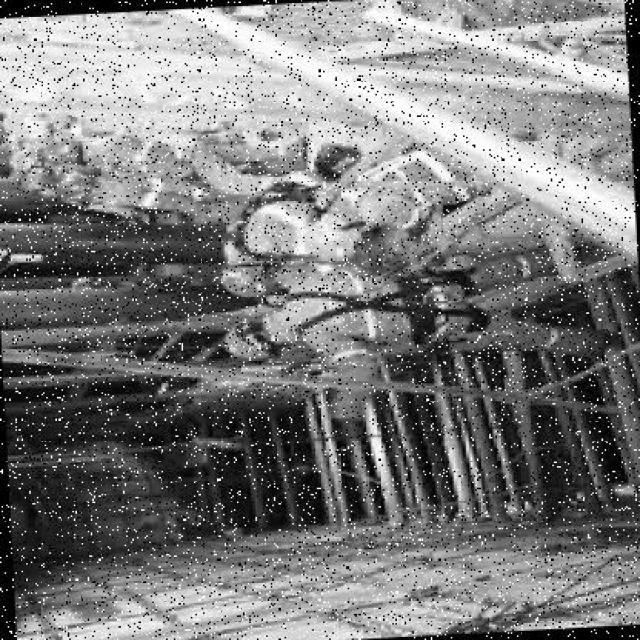Arnes_seguridad: (283, 262, 476, 355), (212, 184, 340, 267), (363, 141, 474, 228)
